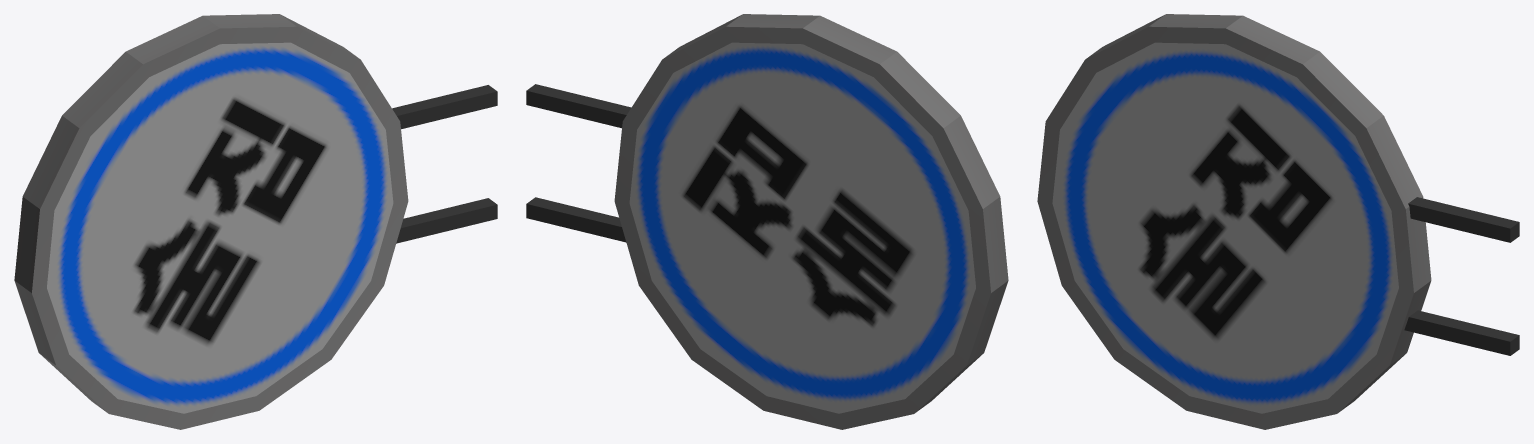
File: B02_Enseigne_B_02.fbx
3 renders of one model, left to right at view 1: azimuth 30°, elevation 25°; view 2: azimuth 150°, elevation 25°; view 3: azimuth 330°, elevation 25°, orthographic.
Parts seen in each view (by area): view 1: B02_Enseigne_B_02; view 2: B02_Enseigne_B_02; view 3: B02_Enseigne_B_02.
Part boxes in pixels (<box>): B02_Enseigne_B_02: <box>14,14,497,429</box>; B02_Enseigne_B_02: <box>526,14,1008,429</box>; B02_Enseigne_B_02: <box>1037,14,1519,429</box>.
Size of the model in its own units: 442 by 353 by 28.45.
